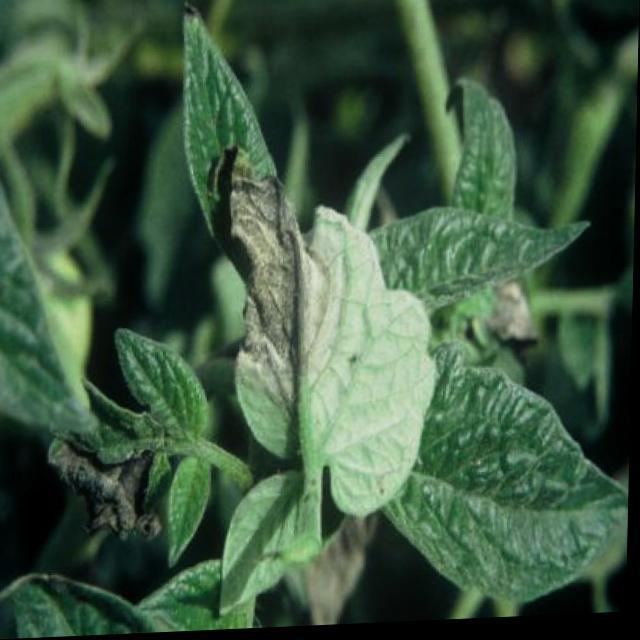Tomato mosaic virus leaf: (150, 4, 454, 570)
